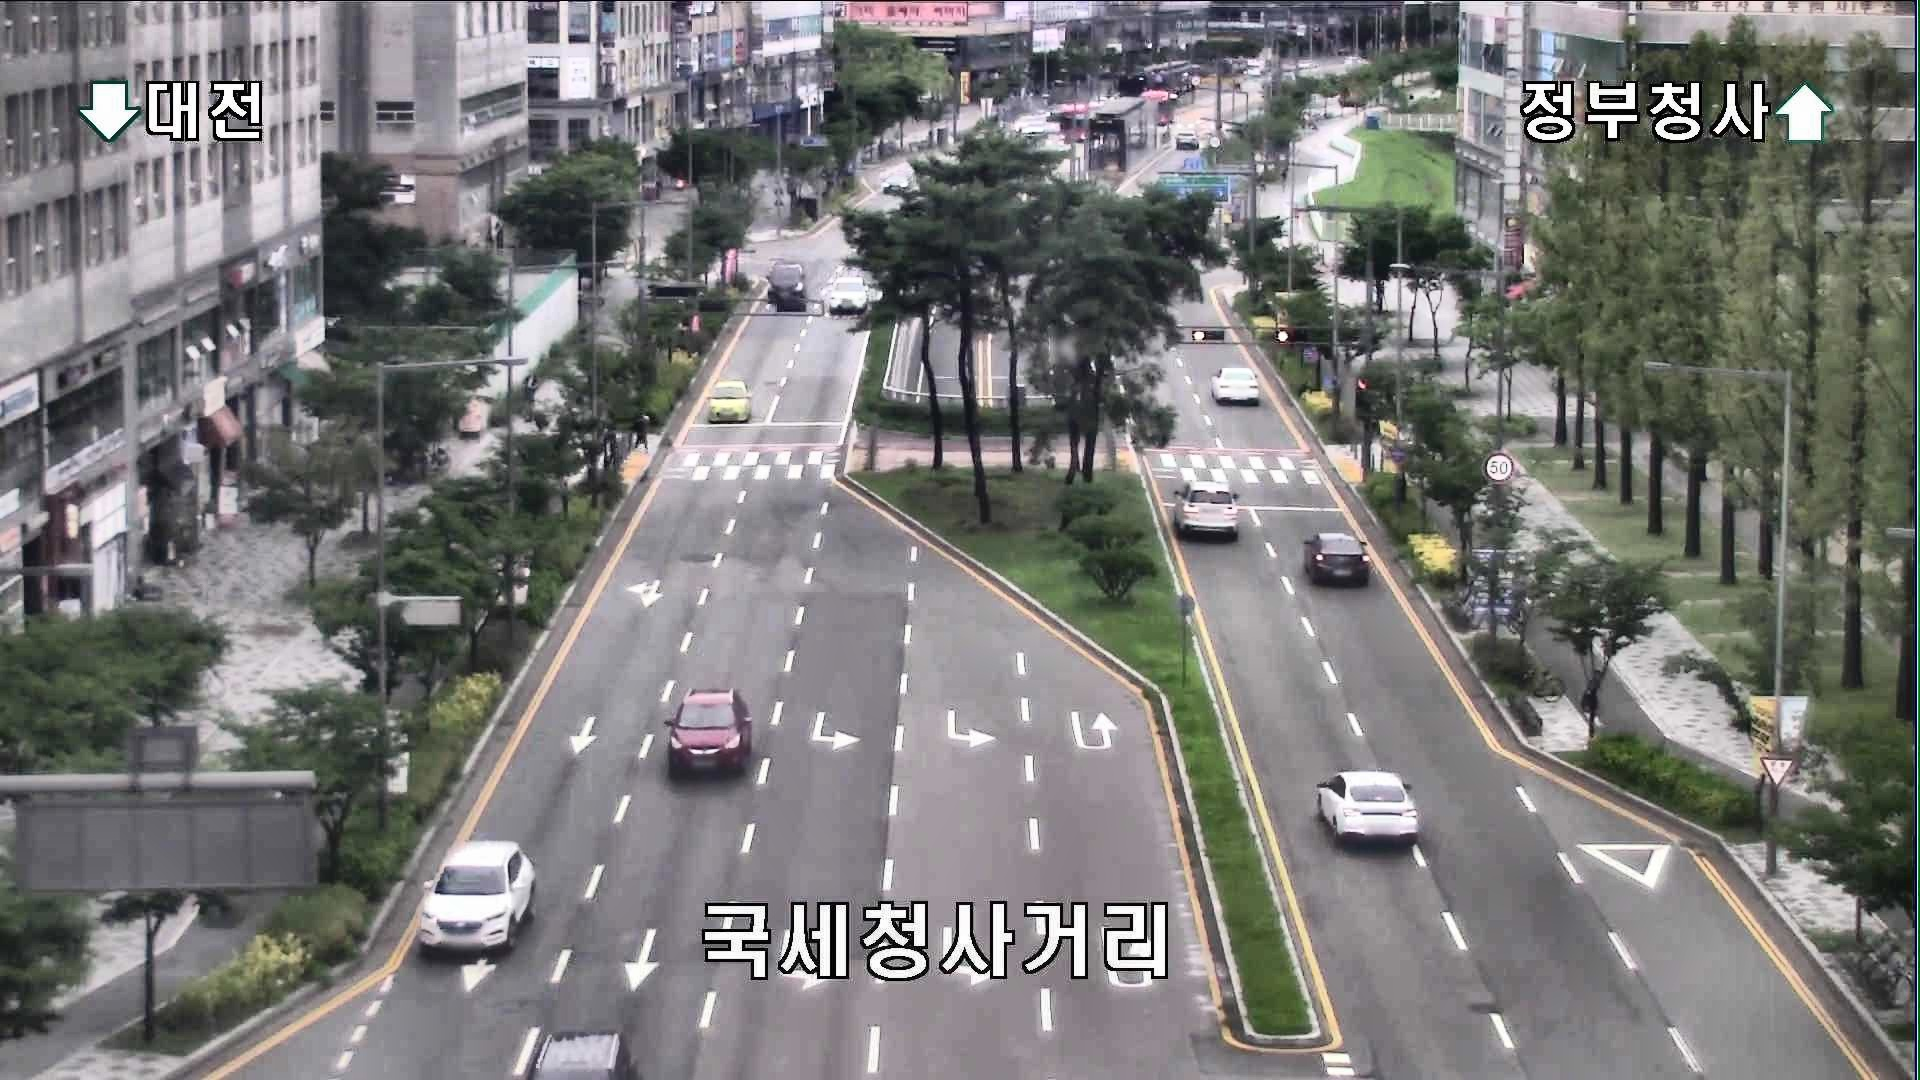sidewalk: (630, 409, 651, 451)
